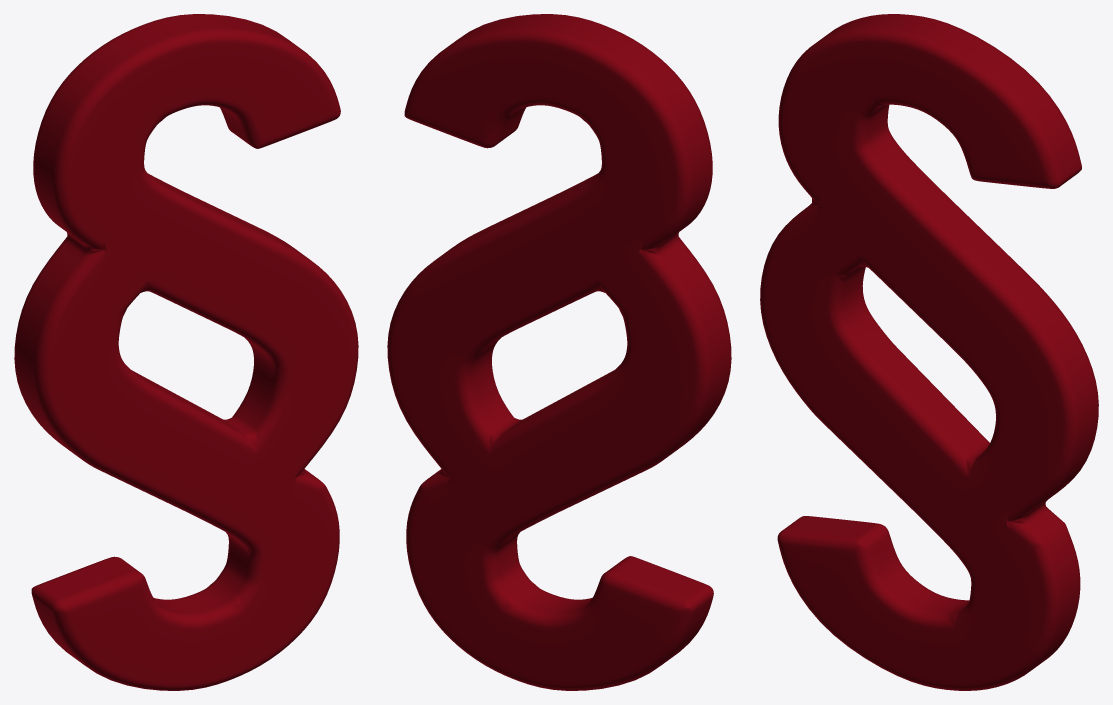
The model's file is Paragraph.fbx.
The picture shows the model from 3 angles, left to right: view 1: azimuth 30°, elevation 25°; view 2: azimuth 150°, elevation 25°; view 3: azimuth 330°, elevation 25°; orthographic projection.
Parts seen in each view (by area): view 1: Plane; view 2: Plane; view 3: Plane.
Boxes of the visible parts, x1=… form: Plane: x1=14, y1=14, x2=358, y2=690; Plane: x1=387, y1=14, x2=731, y2=690; Plane: x1=760, y1=14, x2=1098, y2=690.
Size of the model in its own units: 2.02 by 3.95 by 0.3359.
